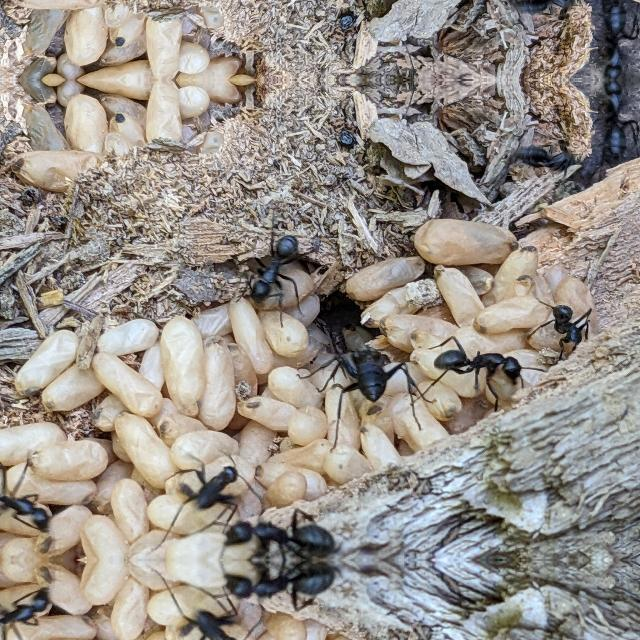Camponotus: (230, 224, 332, 324), (430, 342, 542, 400), (336, 324, 406, 410), (225, 506, 342, 554), (225, 566, 342, 614), (584, 80, 640, 166), (0, 477, 72, 543), (173, 458, 244, 524), (0, 576, 72, 640), (584, 0, 638, 80), (512, 135, 602, 177), (172, 594, 244, 640), (546, 290, 598, 348), (511, 0, 600, 24)
